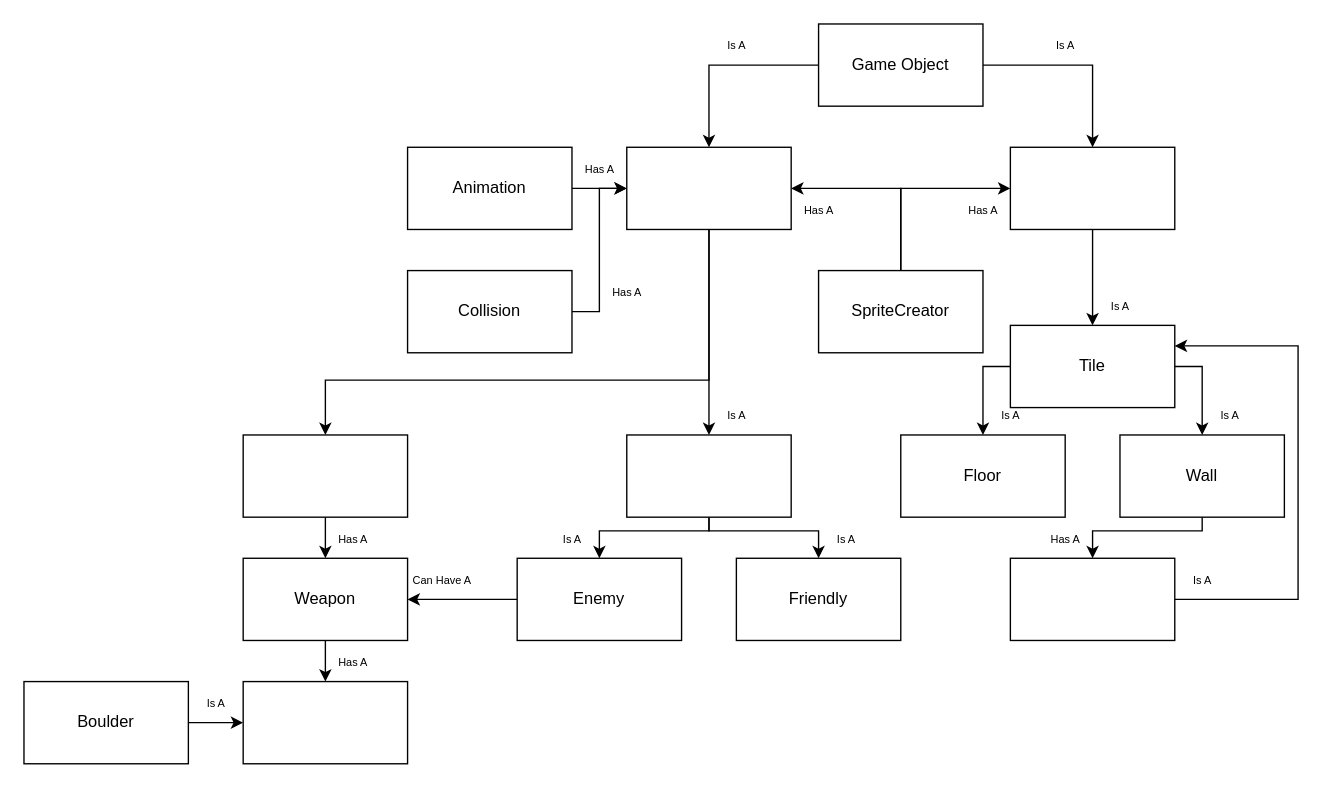
Some shapes in this 1333 by 788 pixel diagram are drawn without their labels. Here are the shapes that lost their labels. From the top down, the box of each, then its label:
(625, 146, 791, 229): Dynamic Object
(1009, 146, 1175, 229): Static
(242, 434, 408, 517): Player
(625, 434, 791, 517): NPC
(1009, 557, 1175, 640): Door
(242, 680, 408, 764): Projectile
